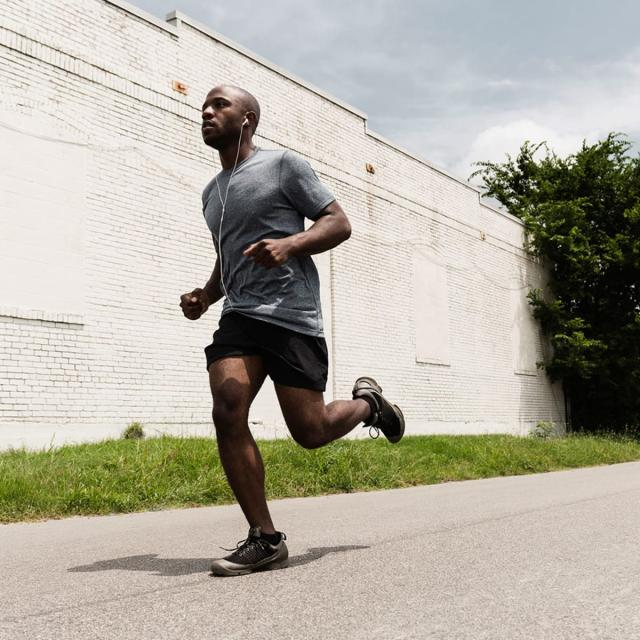Person: (178, 86, 405, 574)
